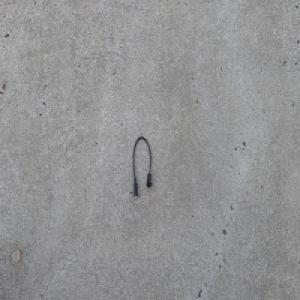Wire: (132, 135, 152, 199)
